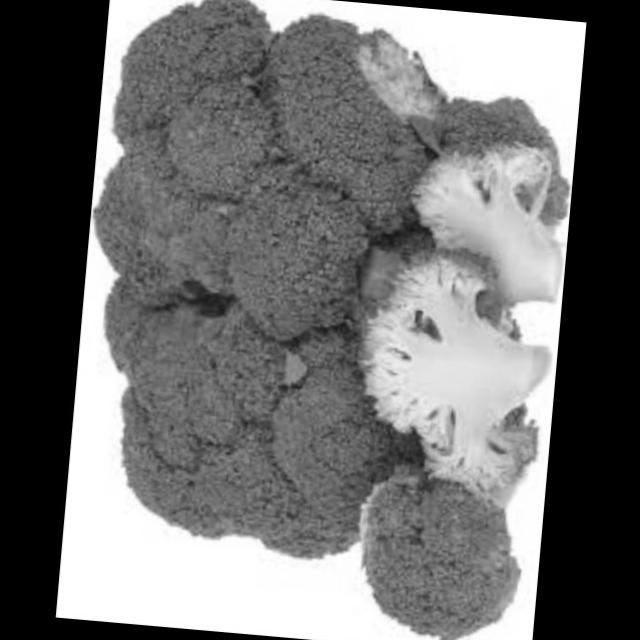bong cai xanh: (55, 0, 583, 640), (326, 243, 563, 497), (399, 120, 576, 319)
